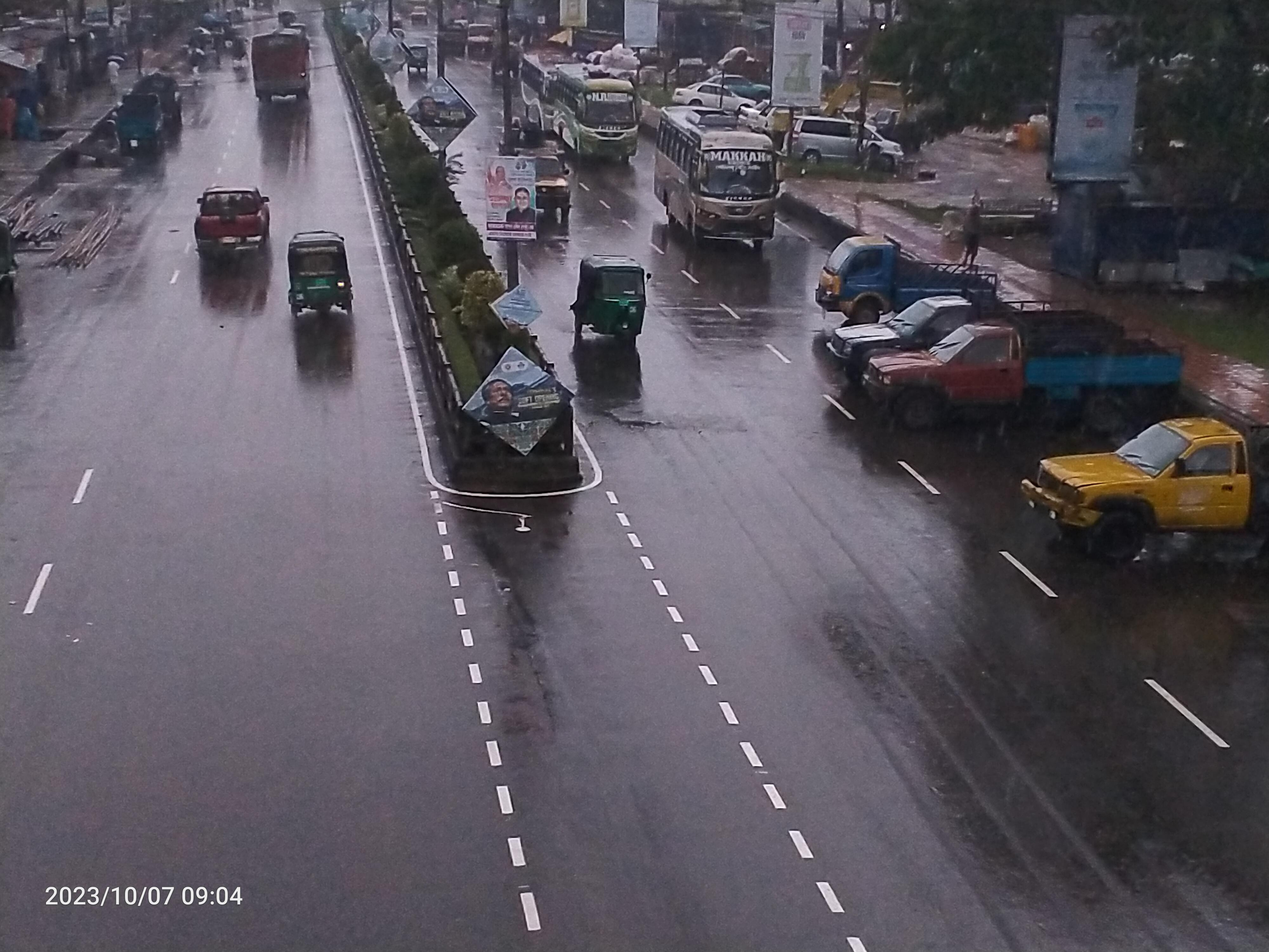Bus: (628, 93, 796, 255), (514, 31, 648, 190)
Car: (772, 105, 949, 193), (171, 178, 284, 297), (659, 75, 760, 107)
Truck: (838, 299, 1213, 440), (1002, 399, 1269, 574), (801, 285, 1121, 376), (786, 225, 1049, 327), (482, 130, 582, 235), (97, 87, 177, 184), (149, 63, 193, 130)
